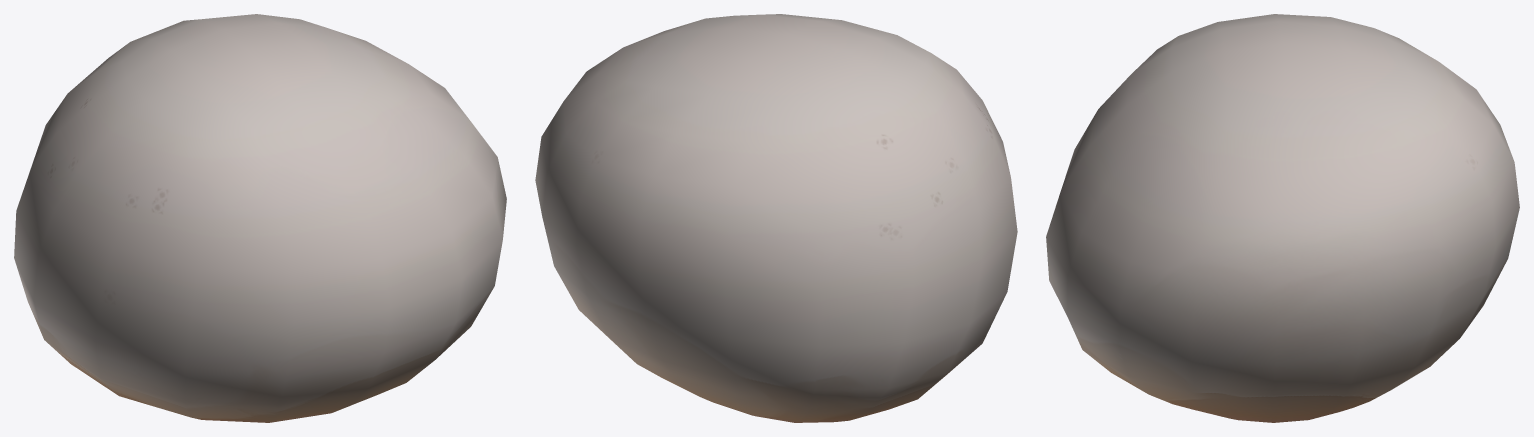
Rendered from PuffBall_007.fbx.
3 views of the same model, side by side, from view 1: azimuth 30°, elevation 25°; view 2: azimuth 150°, elevation 25°; view 3: azimuth 270°, elevation 25° (orthographic). The views are drawn at different scales.
Parts seen in each view (by area): view 1: BuffBall_07_LOD0; view 2: BuffBall_07_LOD0; view 3: BuffBall_07_LOD0.
Part boxes in pixels (x1=…): BuffBall_07_LOD0: x1=14, y1=14, x2=506, y2=422; BuffBall_07_LOD0: x1=535, y1=14, x2=1017, y2=422; BuffBall_07_LOD0: x1=1046, y1=14, x2=1519, y2=422.
Size of what is drawn, in the model's own units: 19.67 by 14.92 by 18.82.
